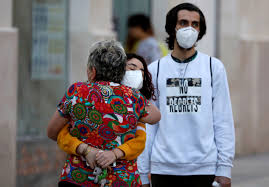no-mask: (78, 38, 125, 90)
with-mask: (165, 5, 207, 57), (116, 50, 152, 90)
